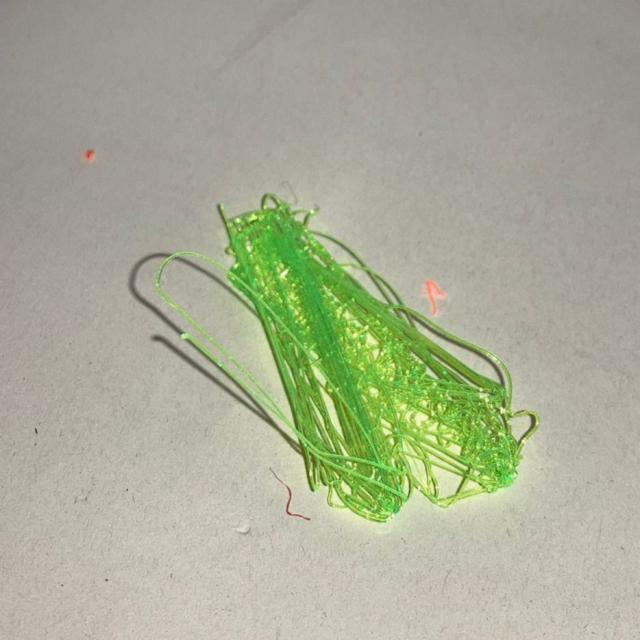spaghetti: (197, 185, 549, 532)
